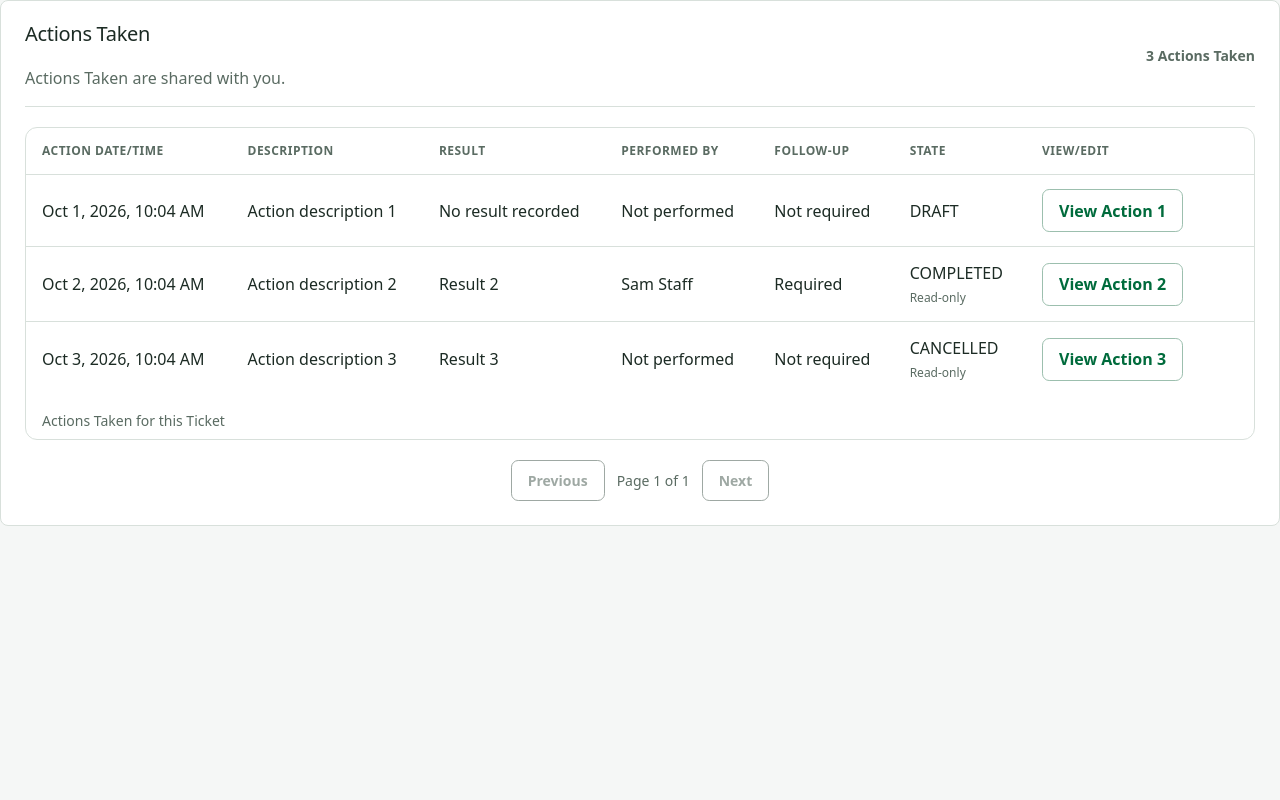
ActionsTakenPanel › renders public DTO fields, terminal states, and accessible expanded details
Check: the table "Actions Taken for this Ticket" is shown, box [26,128,1254,439]
Check: the text "Read-only" is shown 2 times, box [910,289,966,306]; [910,364,966,381]
Click the button "View Action 2" at (1113,284), box [1042,263,1183,306]
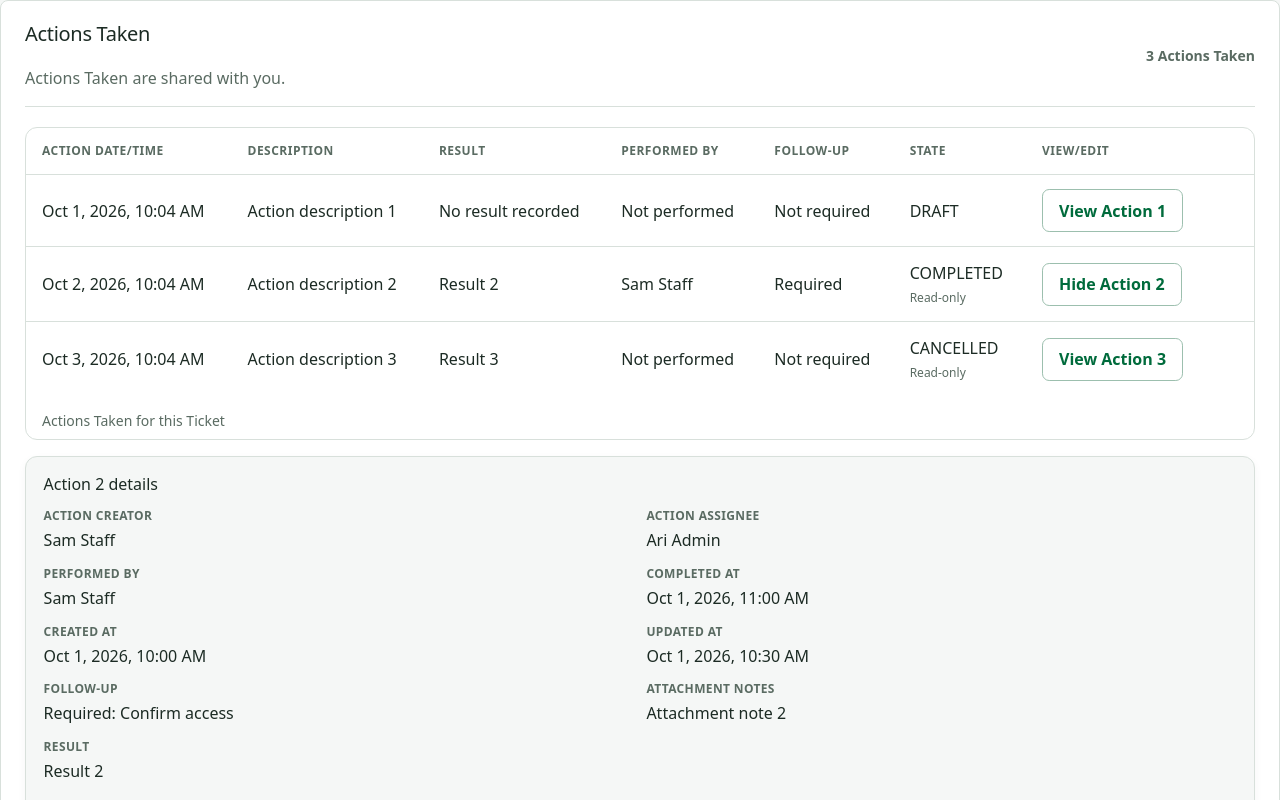
Check: the text "Action Creator" is shown, box [44,507,152,524]
Check: the text "Action Assignee" is shown, box [646,507,760,524]
Check: the text "Required: Confirm access" is shown 2 times
